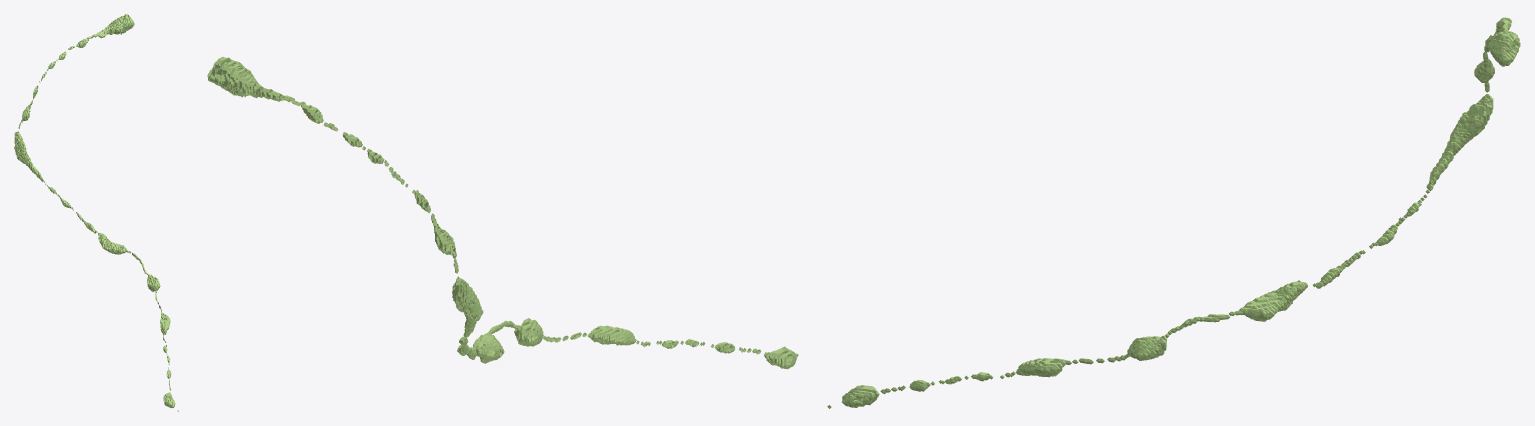
Rendered from SVV_PVPL.gltf.
3 renders of one model, left to right at view 1: azimuth 30°, elevation 25°; view 2: azimuth 150°, elevation 25°; view 3: azimuth 270°, elevation 25°, orthographic. The views are drawn at different scales.
Visible parts, largest first — view 1: PVPL; view 2: PVPL; view 3: PVPL.
Part boxes in pixels (x1=…): PVPL: x1=14, y1=14, x2=178, y2=411; PVPL: x1=207, y1=57, x2=798, y2=369; PVPL: x1=827, y1=17, x2=1520, y2=408.
Size of the model in its own units: 87418 by 156371 by 201062.
